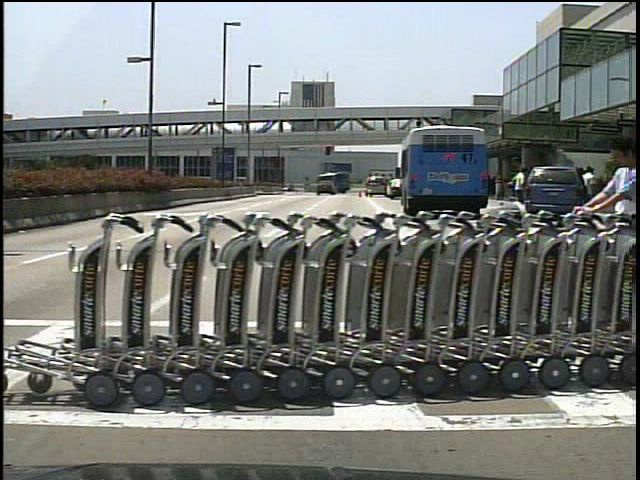person: (579, 128, 638, 355), (580, 165, 601, 214), (573, 164, 591, 221), (511, 162, 525, 212)
